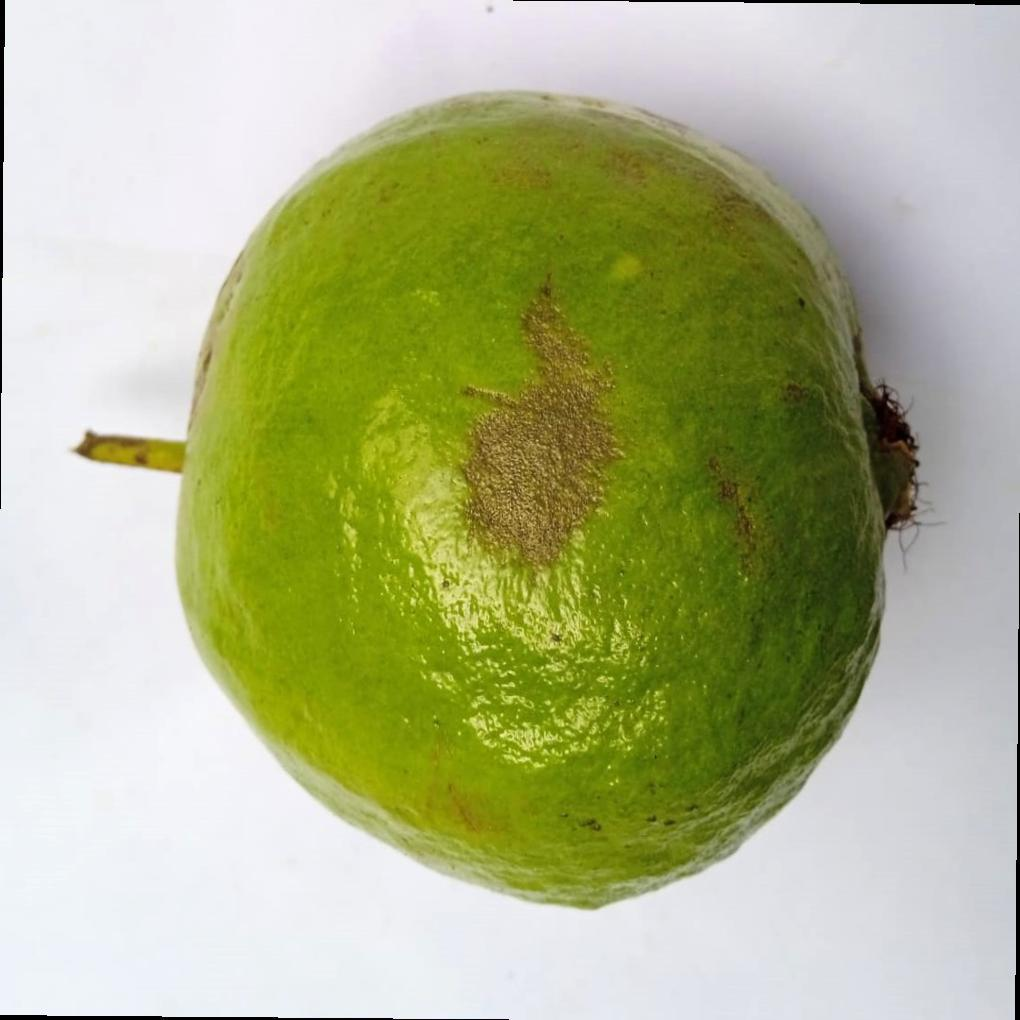FreshGuava: (173, 90, 917, 915)
